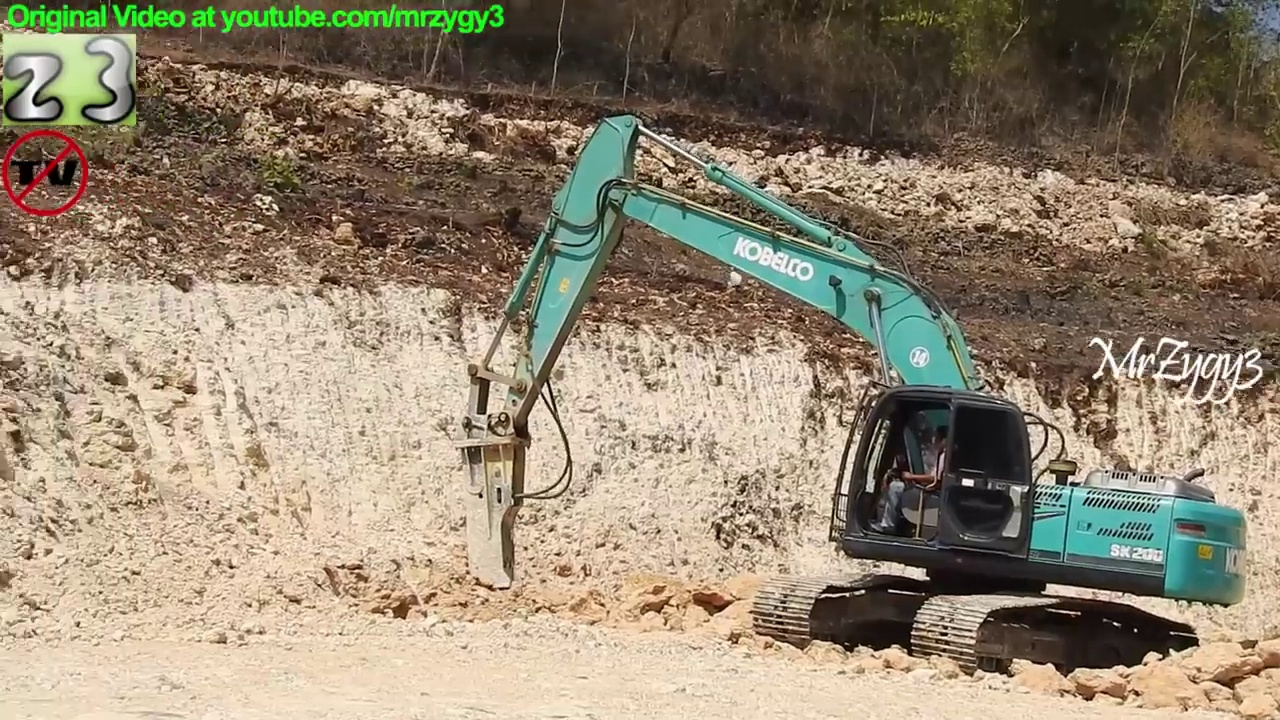excavator breaker: (447, 110, 1257, 692)
